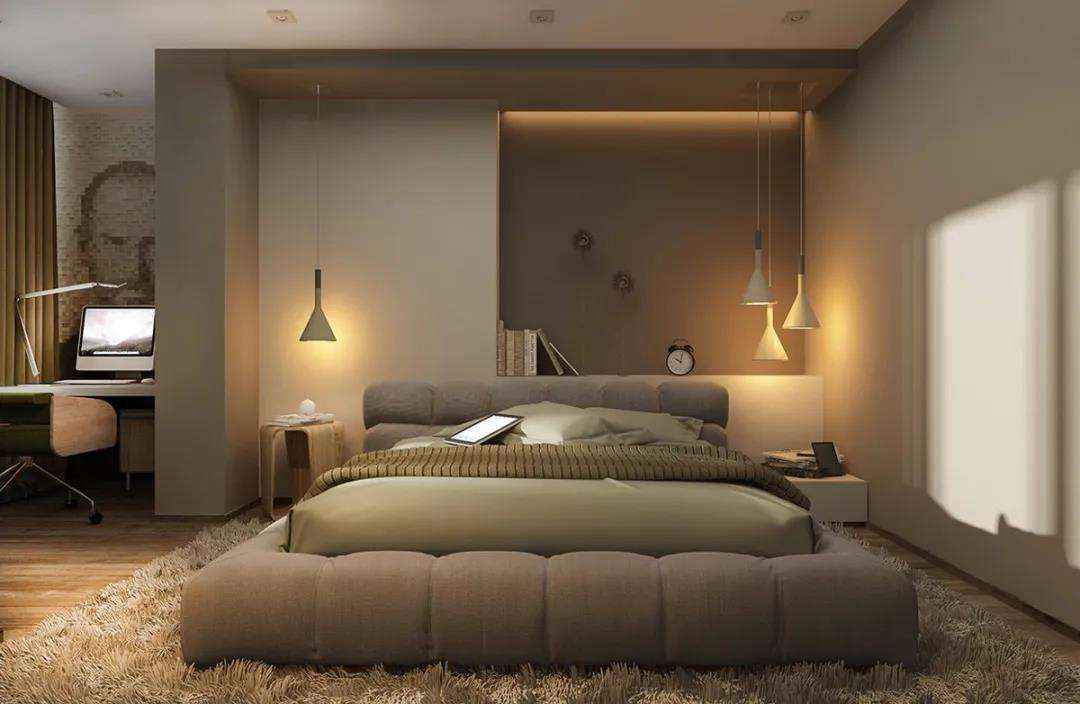床: (225, 418, 877, 674)
枕头: (501, 400, 726, 450)
灯: (738, 79, 822, 369), (302, 86, 353, 357), (259, 8, 297, 31), (526, 8, 561, 29), (777, 7, 809, 27)
